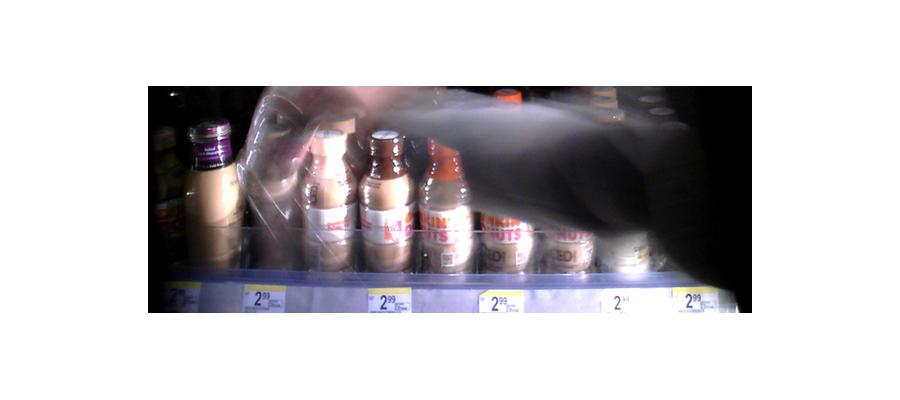bottle: (241, 93, 304, 268), (180, 116, 238, 273), (300, 123, 357, 277), (359, 128, 413, 278), (416, 137, 472, 277), (481, 200, 538, 282), (537, 217, 598, 286)
